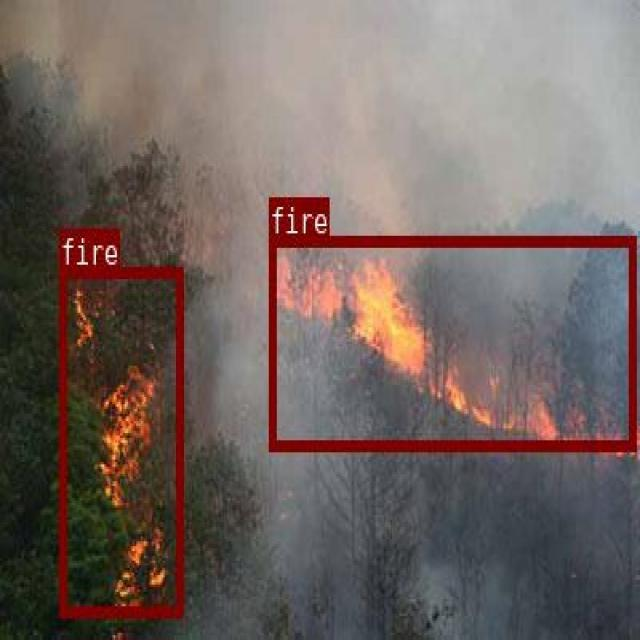fire: (268, 235, 635, 450), (59, 265, 181, 614)
